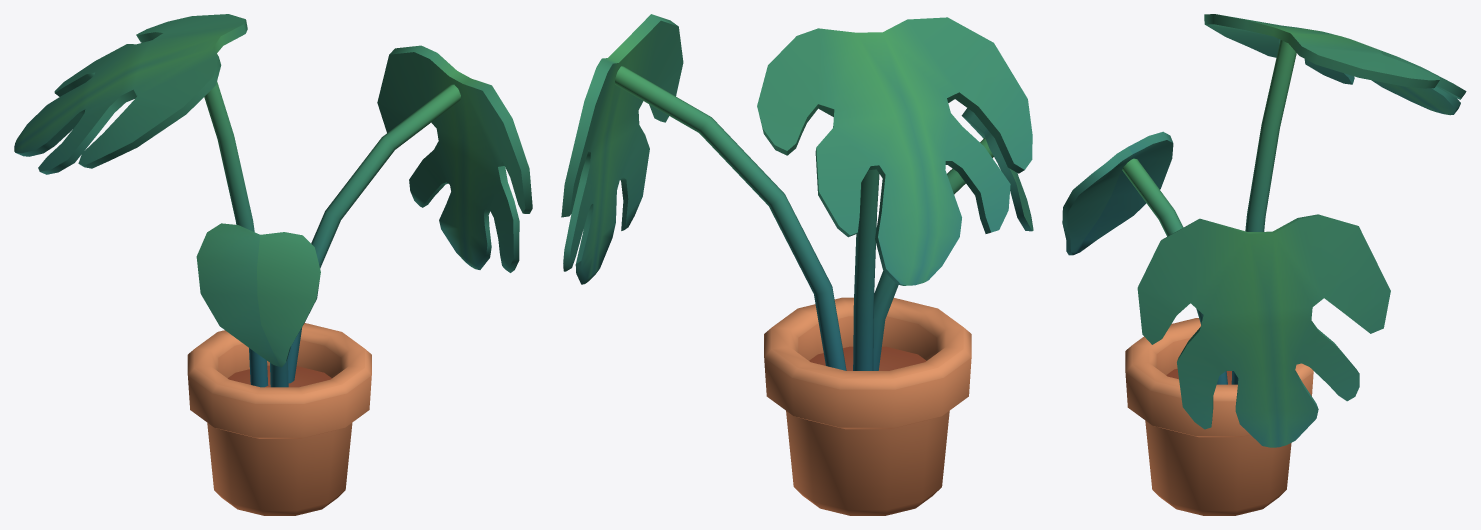
Rendered from Small Monstera-DPlE9zBfHb.glb.
The picture shows the model from 3 angles, left to right: view 1: azimuth 30°, elevation 25°; view 2: azimuth 150°, elevation 25°; view 3: azimuth 270°, elevation 25°; orthographic projection. The views are drawn at different scales.
Visible parts, largest first — view 1: monstera_plant_small_potted; view 2: monstera_plant_small_potted; view 3: monstera_plant_small_potted.
Boxes of the visible parts, x1,y1,x2,y2 form: monstera_plant_small_potted: (14, 14, 532, 515); monstera_plant_small_potted: (561, 14, 1033, 515); monstera_plant_small_potted: (1062, 14, 1466, 515).
Bounding box in the file's own units: 1.26 × 1.31 × 1.07.
1 material, 1 textured.
